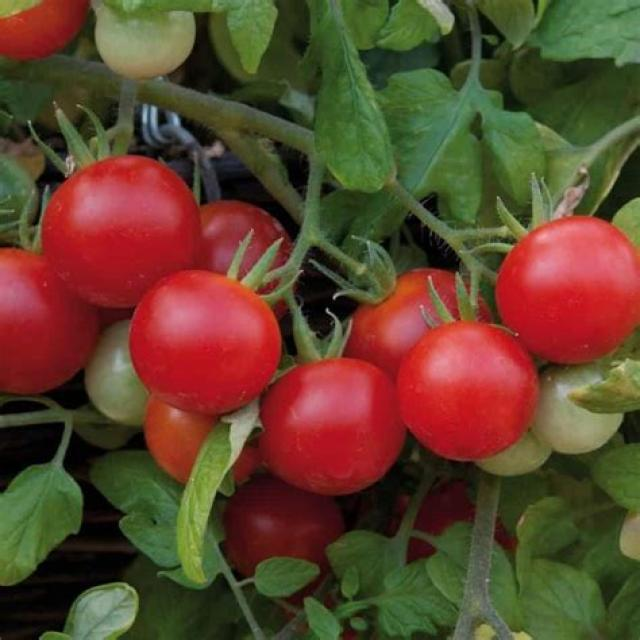Tomato: (39, 156, 269, 316), (495, 216, 640, 366), (394, 320, 541, 466), (263, 357, 412, 496), (122, 277, 287, 401), (0, 247, 103, 398), (228, 485, 351, 582), (0, 0, 91, 61)
